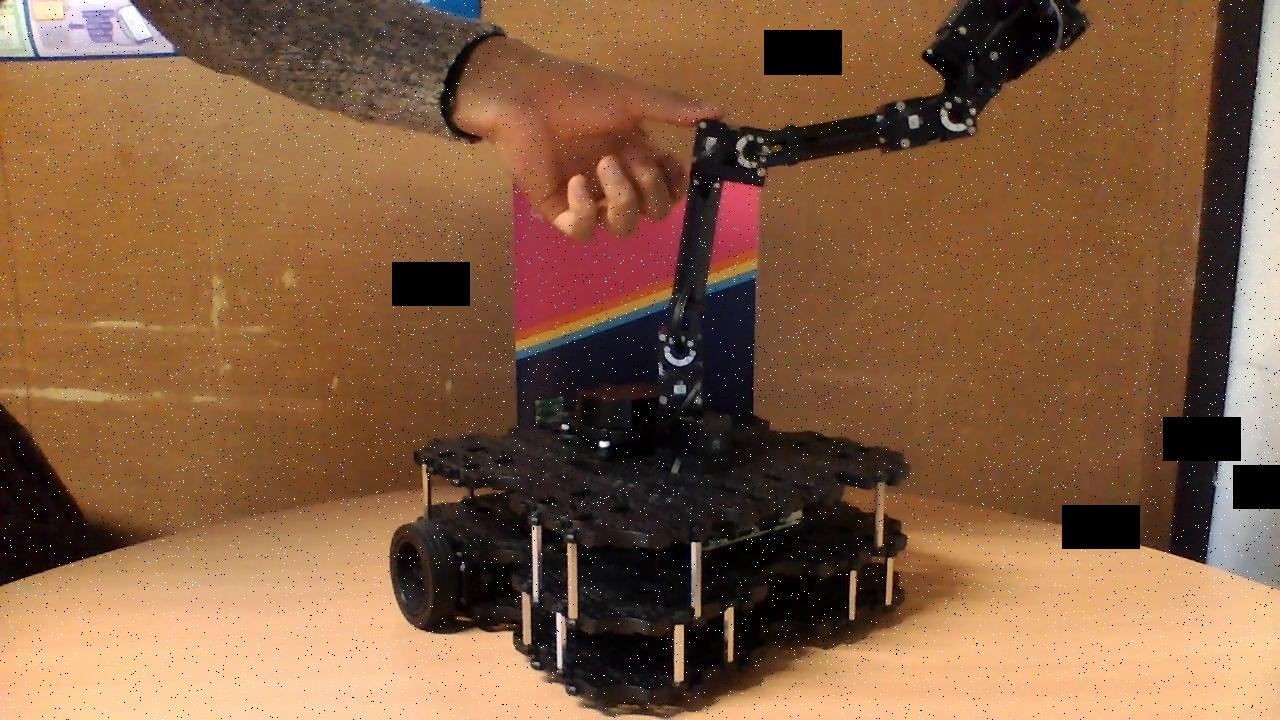Arm: (652, 115, 757, 382)
Hand: (921, 0, 1092, 148)
Wrist: (734, 92, 980, 184)
base: (387, 382, 913, 706)
